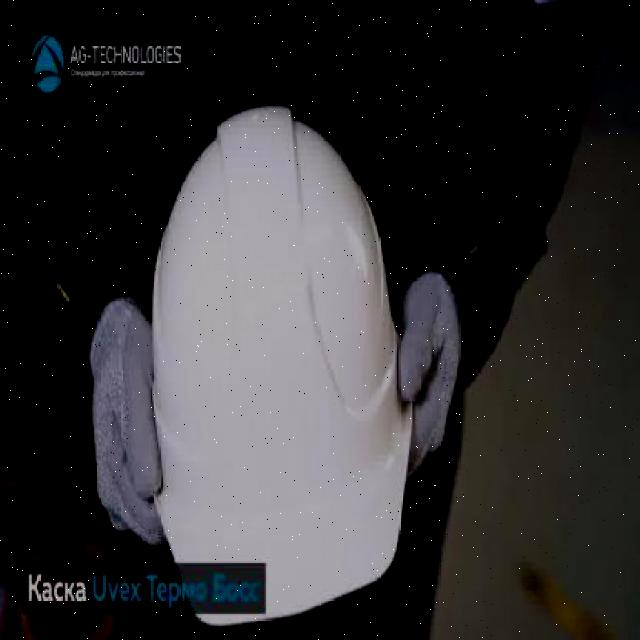Gloves: (88, 297, 170, 548), (393, 271, 467, 480)
Helmet: (150, 104, 415, 628)
